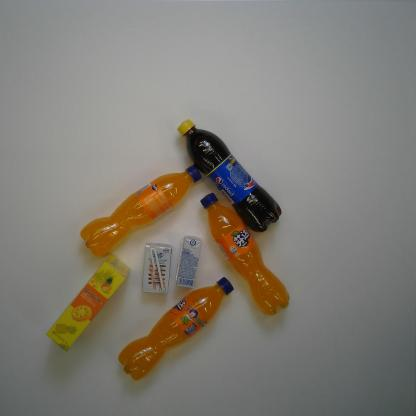Dessert: (45, 253, 131, 353)
Drink: (117, 276, 235, 382), (176, 118, 282, 233), (198, 191, 291, 318), (80, 164, 203, 260)
Milk: (141, 242, 173, 295), (174, 235, 202, 289)
